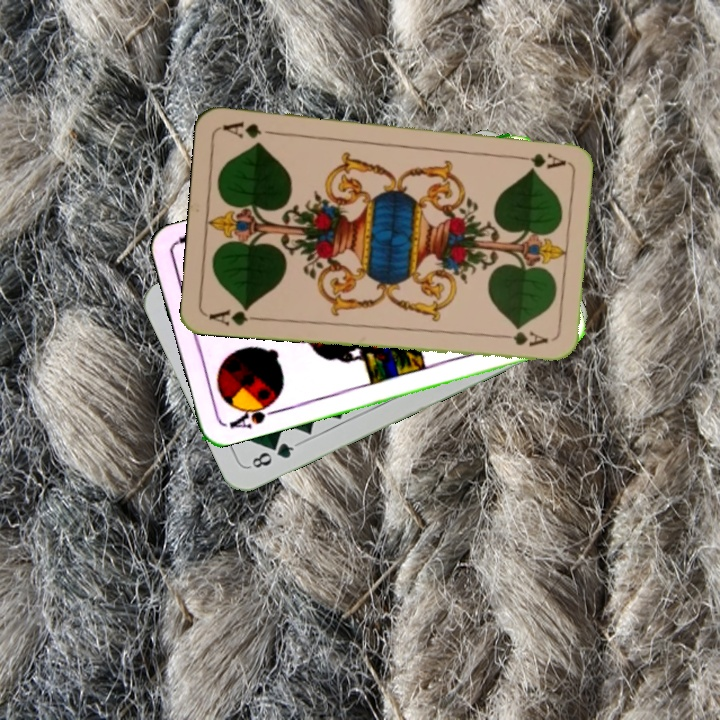G8: (245, 438, 301, 471)
GA: (204, 302, 264, 328), (508, 149, 568, 169)
SA: (225, 396, 282, 431)
